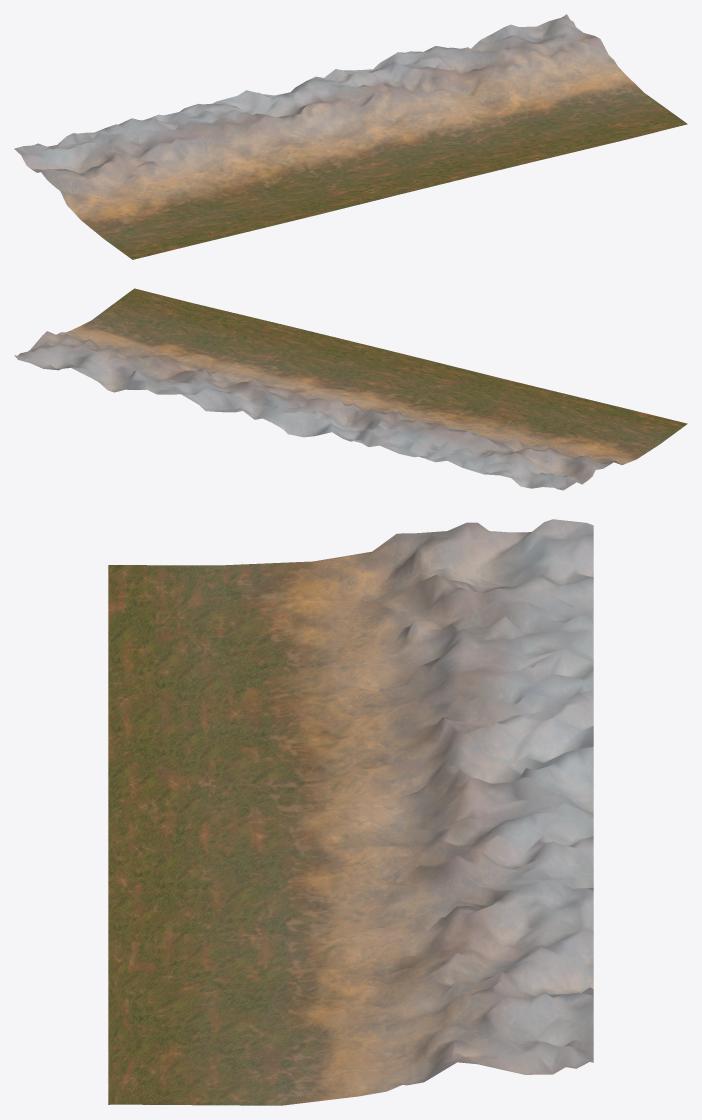
The model's file is shootingrange.glb.
3 views of the same model, one above another, from view 1: azimuth 30°, elevation 25°; view 2: azimuth 150°, elevation 25°; view 3: azimuth 270°, elevation 25° (orthographic). The views are drawn at different scales.
Parts seen in each view (by area): view 1: terrain; view 2: terrain; view 3: terrain.
Boxes of the visible parts, x1,y1,x2,y2 form: terrain: (14, 14, 687, 259); terrain: (14, 288, 687, 490); terrain: (108, 519, 593, 1105).
Bounding box in the file's own units: 5646 × 250 × 2143.
1 material, 1 textured.
